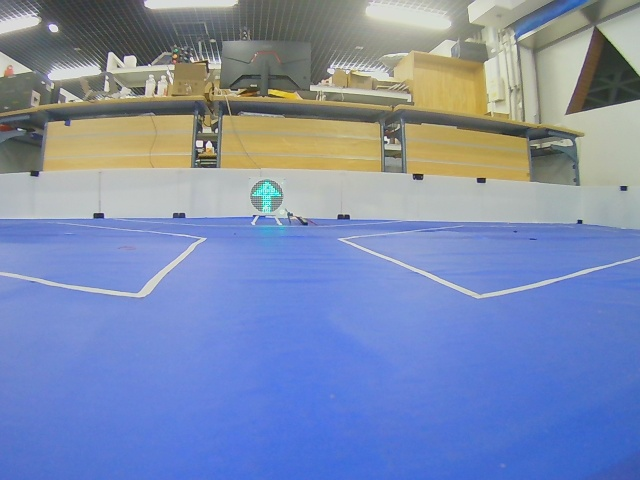straight_green: (250, 179, 283, 214)
